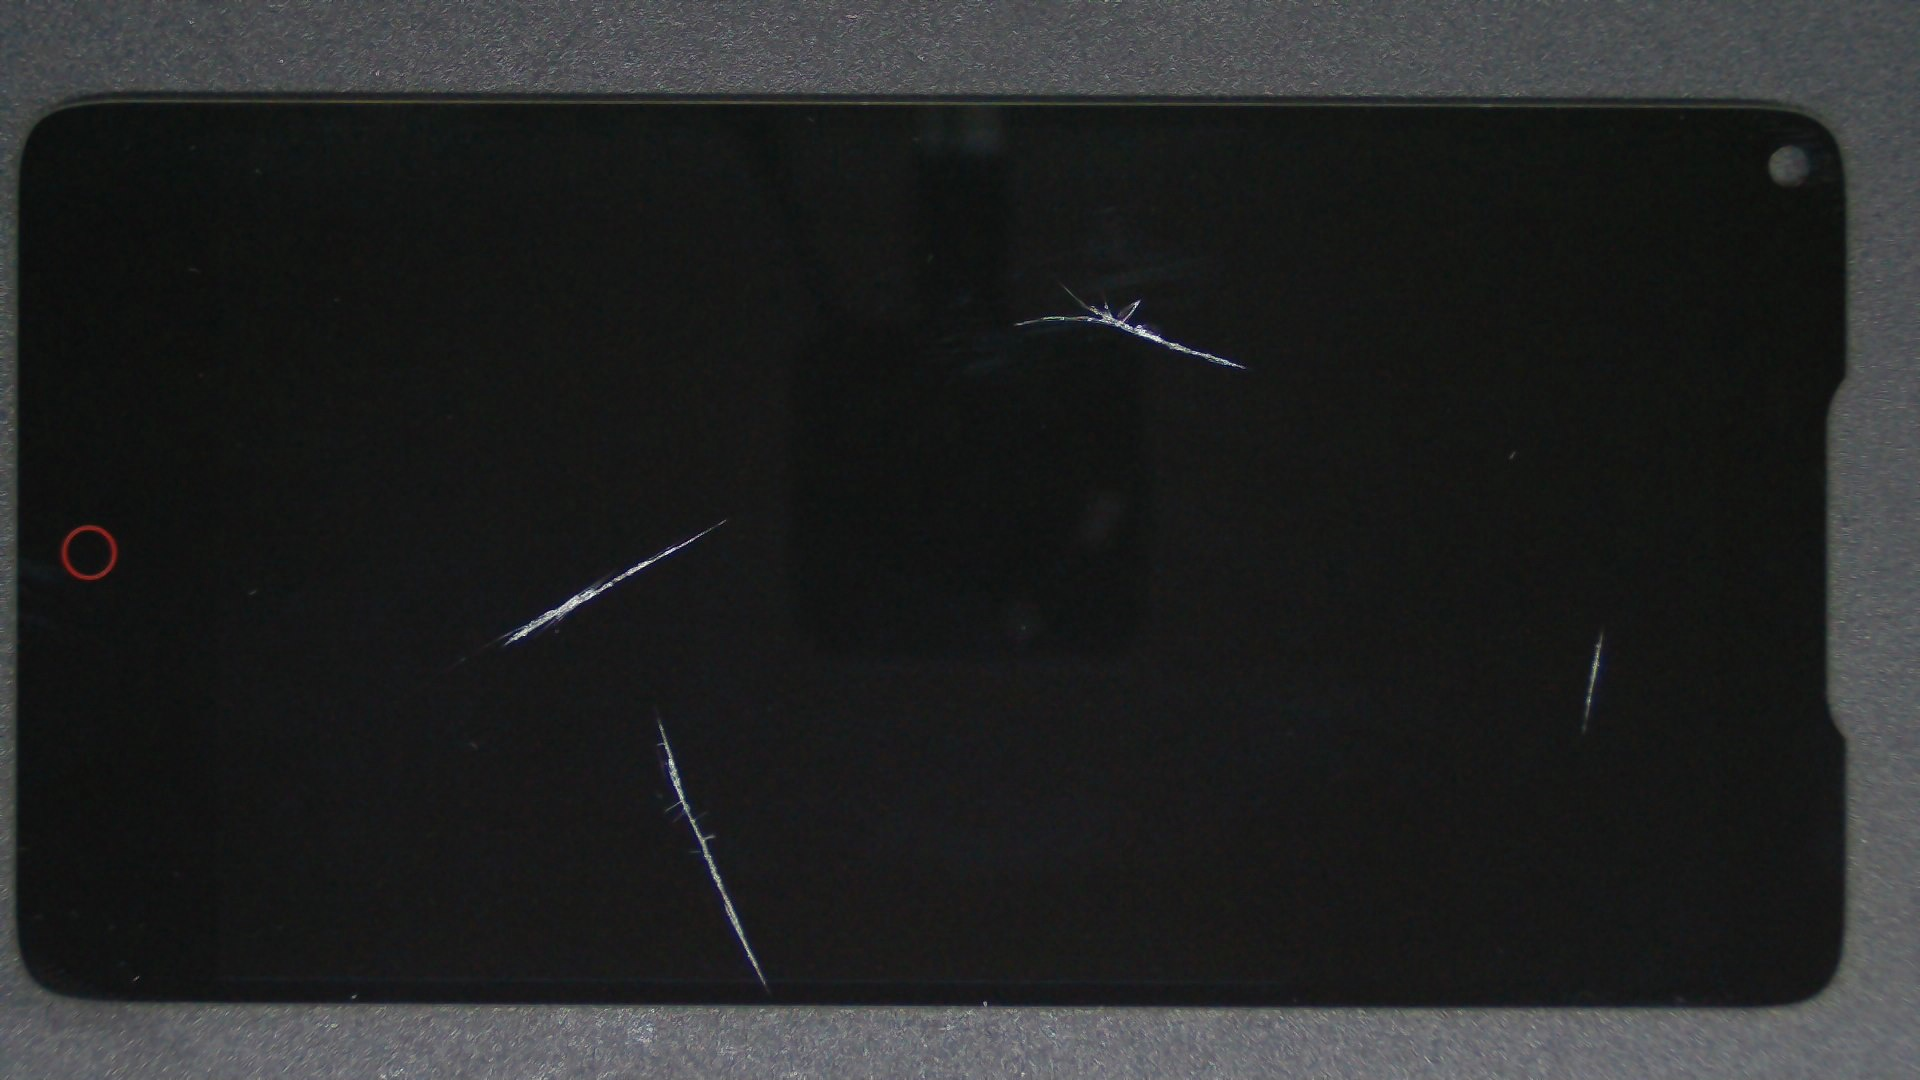oil: (800, 316, 1920, 949), (330, 360, 988, 1080), (363, 258, 1087, 778), (530, 142, 1594, 430)
